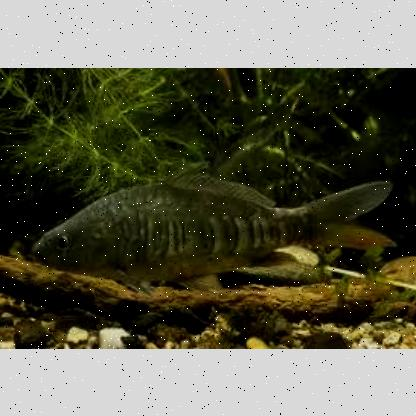ikan-mas: (27, 164, 392, 282)
